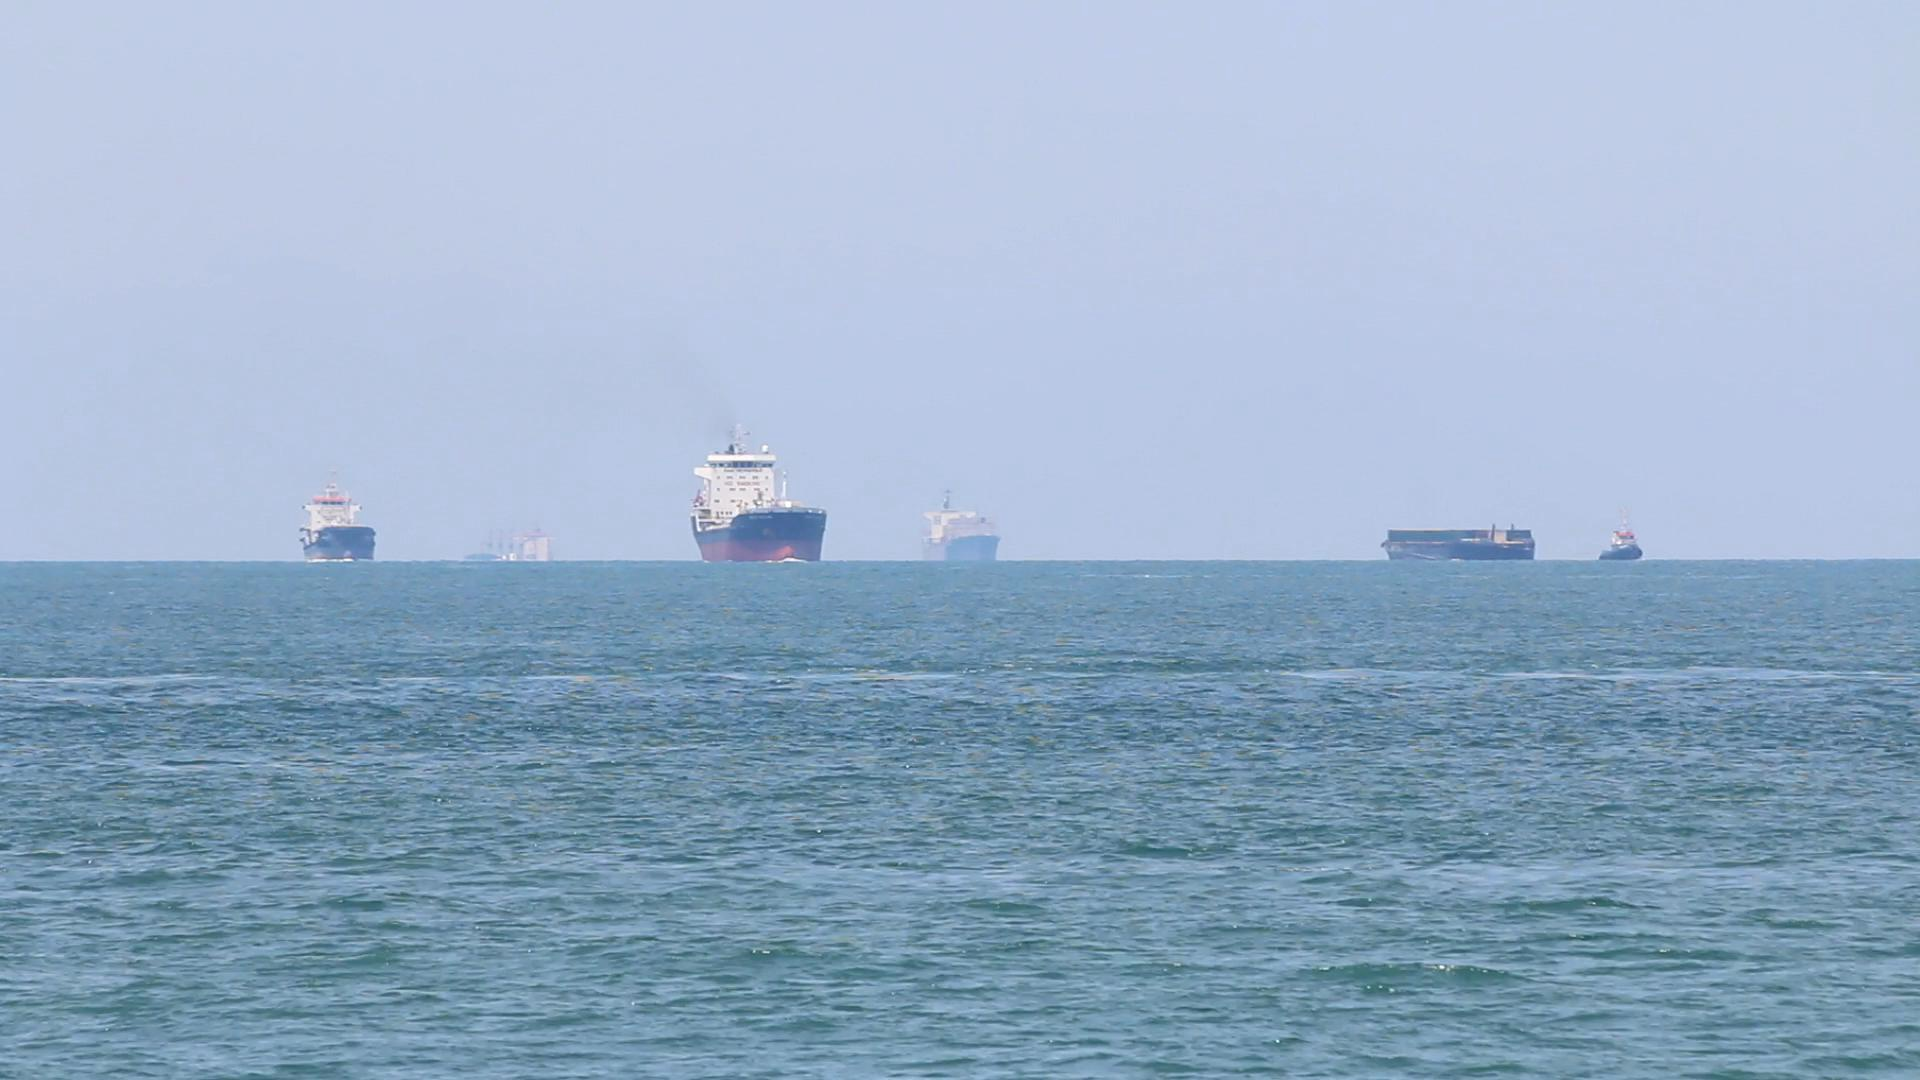Container Ship: (683, 414, 835, 568), (1370, 508, 1542, 563), (294, 463, 381, 570), (913, 480, 1009, 571), (1589, 520, 1654, 566)
